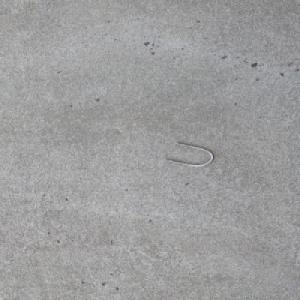ClampPart: (164, 142, 216, 167)
